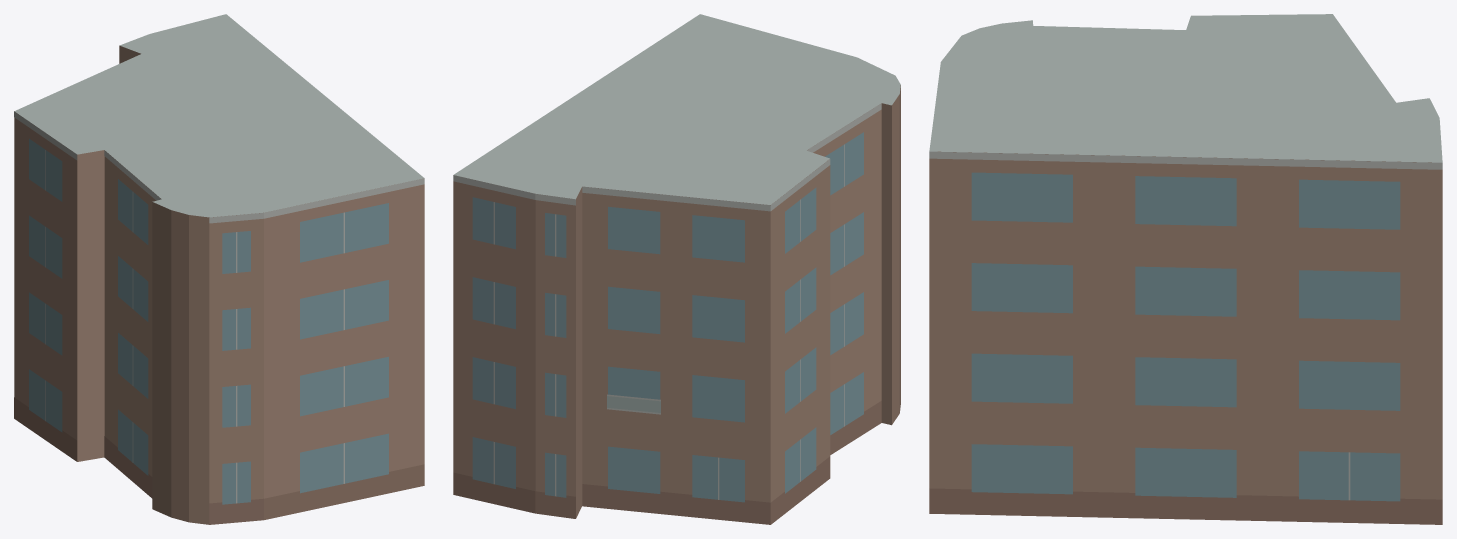
The model's file is survey-upis-33005791.glb.
3 views of the same model, side by side, from view 1: azimuth 30°, elevation 25°; view 2: azimuth 150°, elevation 25°; view 3: azimuth 270°, elevation 25° (orthographic). The views are drawn at different scales.
Visible parts, largest first — view 1: survey-upis-33005791.tmp; view 2: survey-upis-33005791.tmp; view 3: survey-upis-33005791.tmp.
Part boxes in pixels (x1,y1,x2,y2): survey-upis-33005791.tmp: (14,14,424,524); survey-upis-33005791.tmp: (453,14,900,524); survey-upis-33005791.tmp: (929,14,1442,524).
Size of the model in its own units: 10.93 by 12.4 by 15.94.
